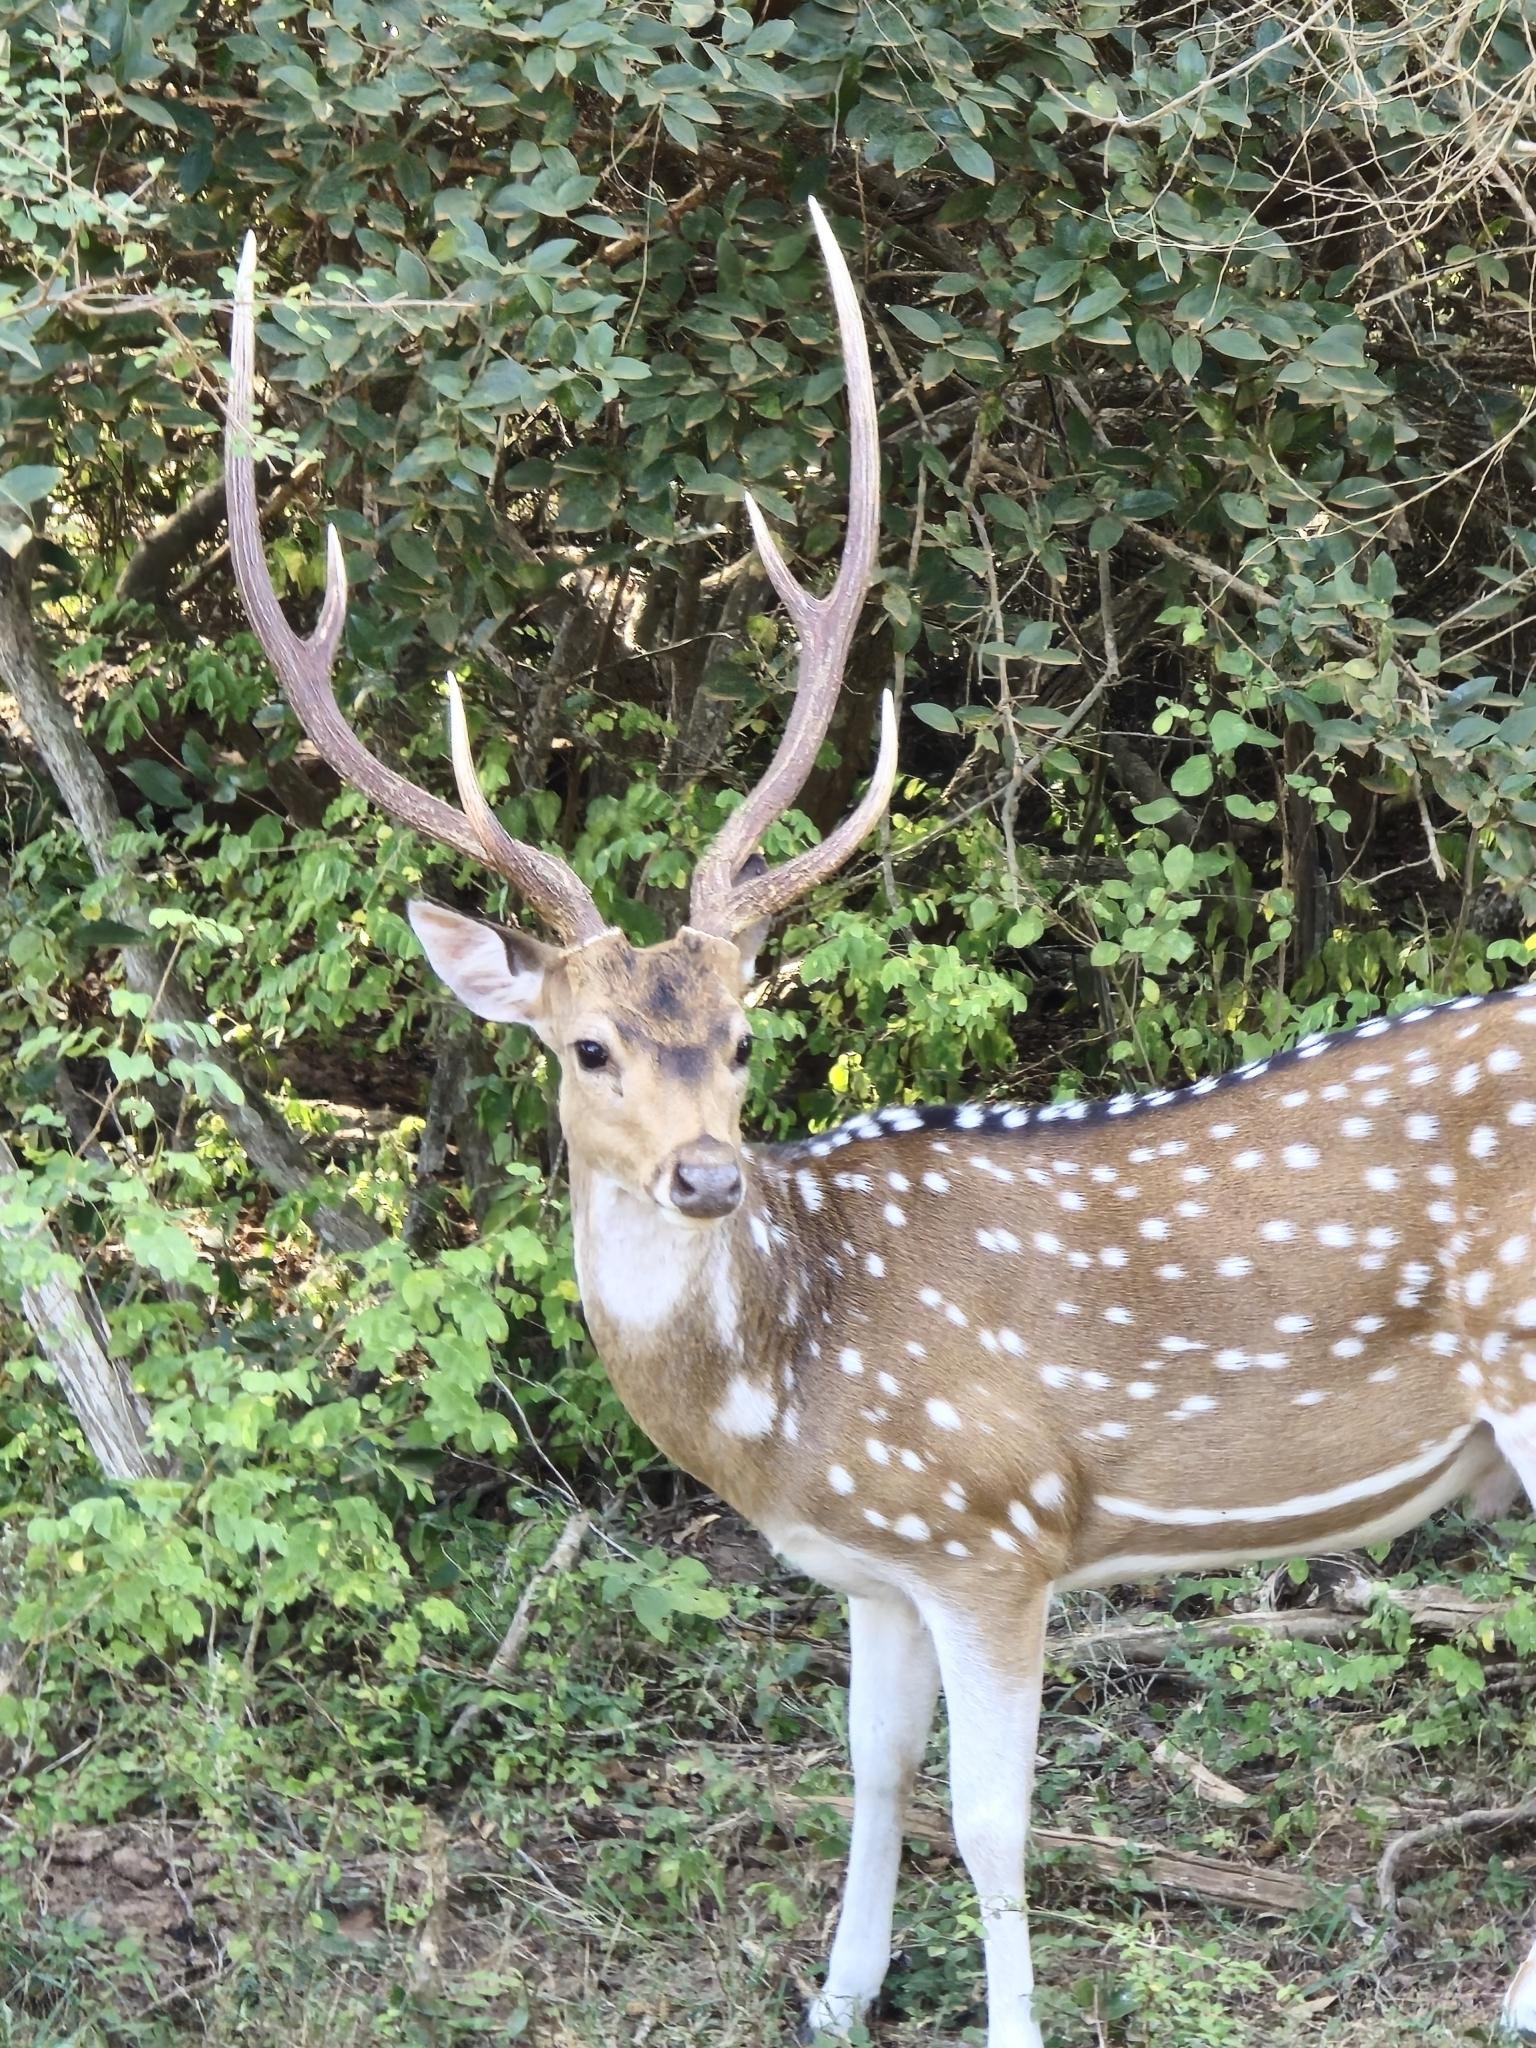Deer: (224, 202, 1534, 2046)
